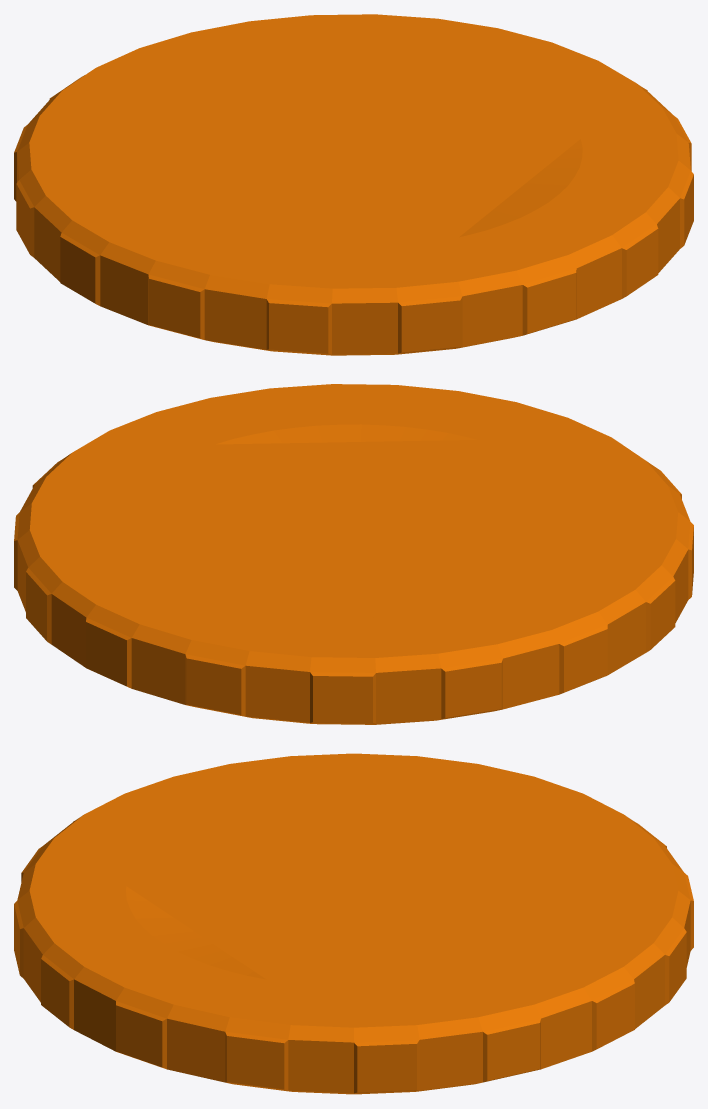
Rendered from goldCoin.fbx.
3 renders of one model, top to bottom at view 1: azimuth 30°, elevation 25°; view 2: azimuth 150°, elevation 25°; view 3: azimuth 270°, elevation 25°, orthographic.
Parts seen in each view (by area): view 1: Cylinder; view 2: Cylinder; view 3: Cylinder.
Part boxes in pixels (x1=…): Cylinder: x1=14, y1=14, x2=693, y2=355; Cylinder: x1=14, y1=384, x2=693, y2=724; Cylinder: x1=14, y1=753, x2=693, y2=1094.
Bounding box in the file's own units: 202 × 23.02 × 202.
